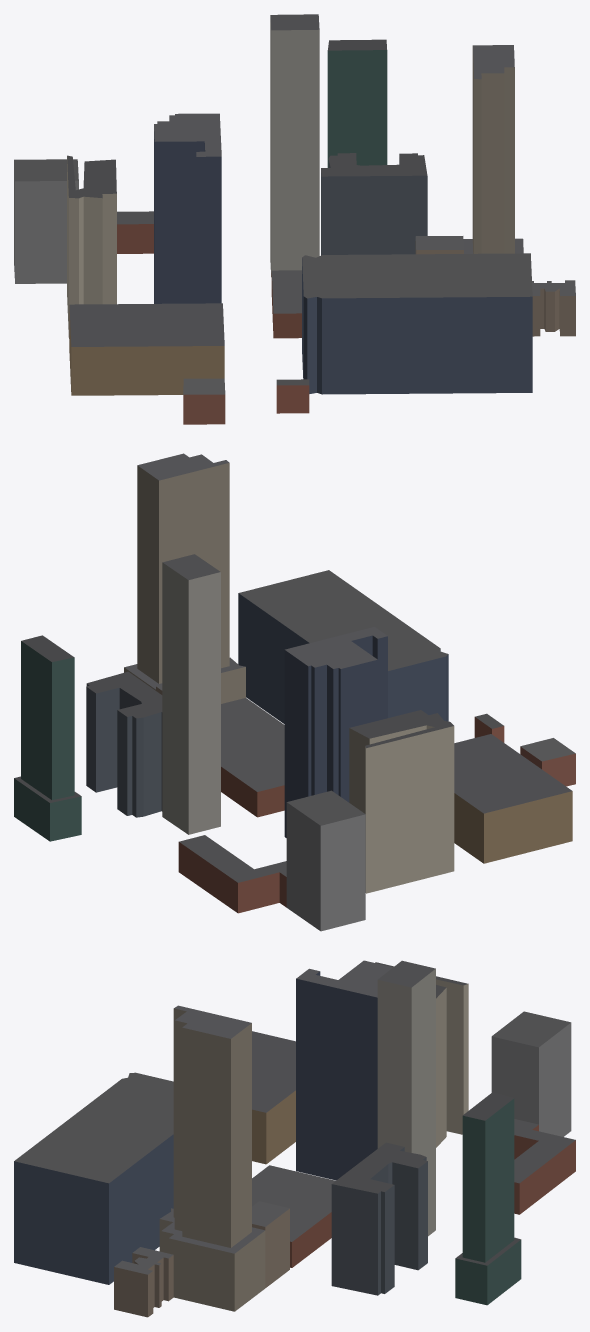
The model's file is -1_5.far.glb.
3 renders of one model, top to bottom at view 1: azimuth 30°, elevation 25°; view 2: azimuth 150°, elevation 25°; view 3: azimuth 270°, elevation 25°, orthographic. The views are drawn at different scales.
Parts seen in each view (by area): view 1: -1_5_far; view 2: -1_5_far; view 3: -1_5_far.
Boxes of the visible parts, bbox=[...] form: -1_5_far: bbox=[14, 14, 575, 424]; -1_5_far: bbox=[14, 453, 575, 931]; -1_5_far: bbox=[14, 960, 575, 1317].
Size of the model in its own units: 313 by 166 by 316.
